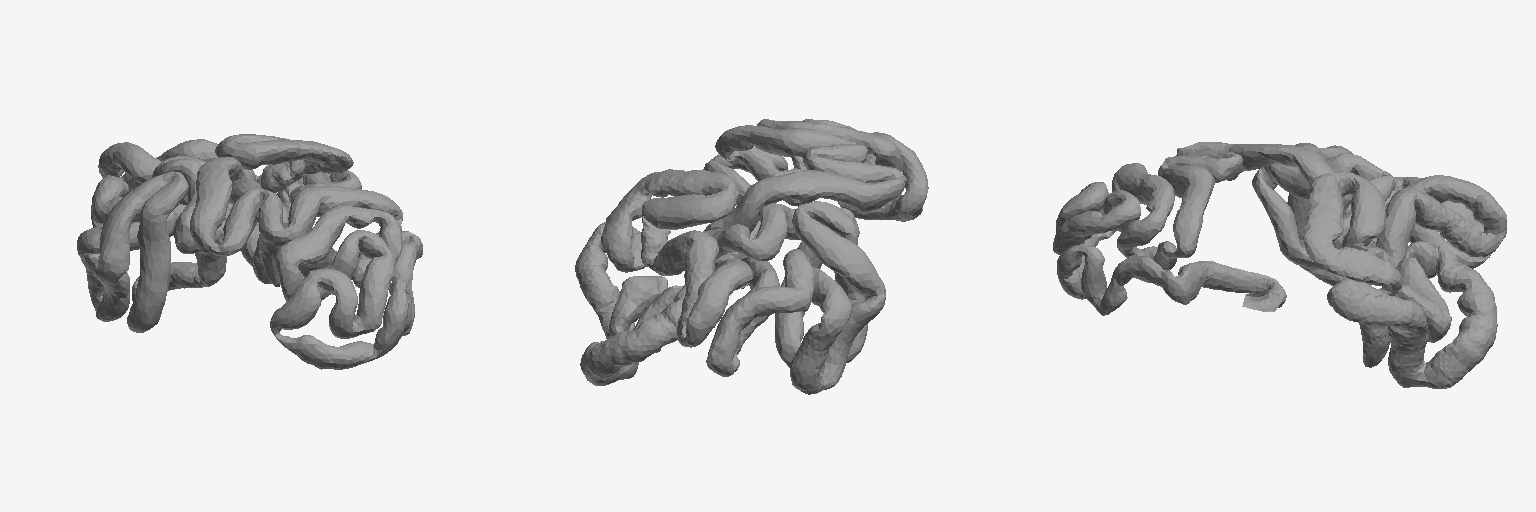
The model's file is intestin_visu.obj.
3 renders of one model, left to right at view 1: azimuth 30°, elevation 25°; view 2: azimuth 150°, elevation 25°; view 3: azimuth 270°, elevation 25°, orthographic.
Visible parts, largest first — view 1: Small_Intestines_Small_Intestines_Mesh; view 2: Small_Intestines_Small_Intestines_Mesh; view 3: Small_Intestines_Small_Intestines_Mesh.
Part boxes in pixels (bbox=[...]): Small_Intestines_Small_Intestines_Mesh: bbox=[77, 134, 422, 369]; Small_Intestines_Small_Intestines_Mesh: bbox=[575, 119, 928, 394]; Small_Intestines_Small_Intestines_Mesh: bbox=[1053, 142, 1506, 388].
Size of the model in its own units: 3.98 by 2.53 by 5.61.